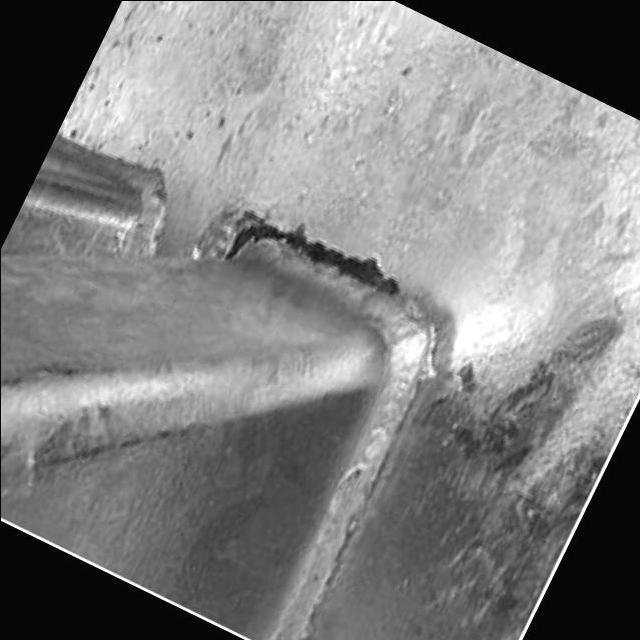defect: (219, 203, 404, 300)
